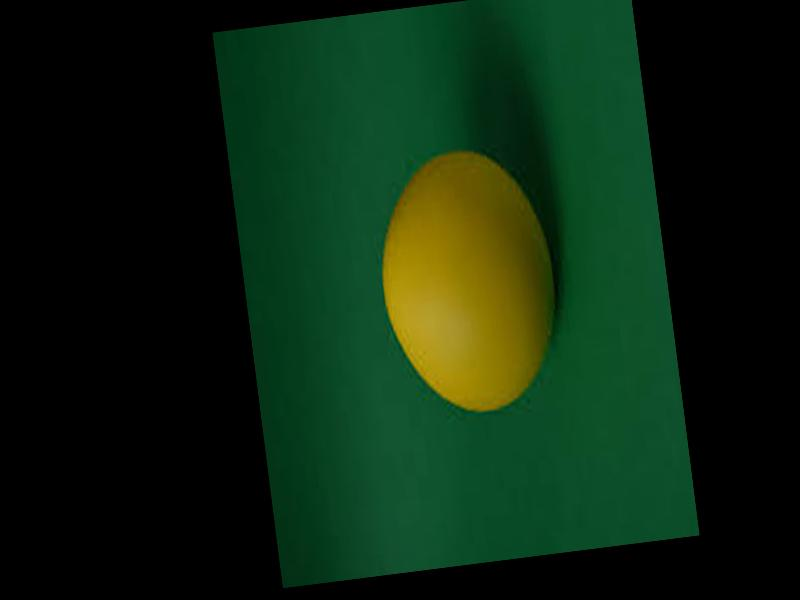Eggs: (367, 148, 570, 425)
